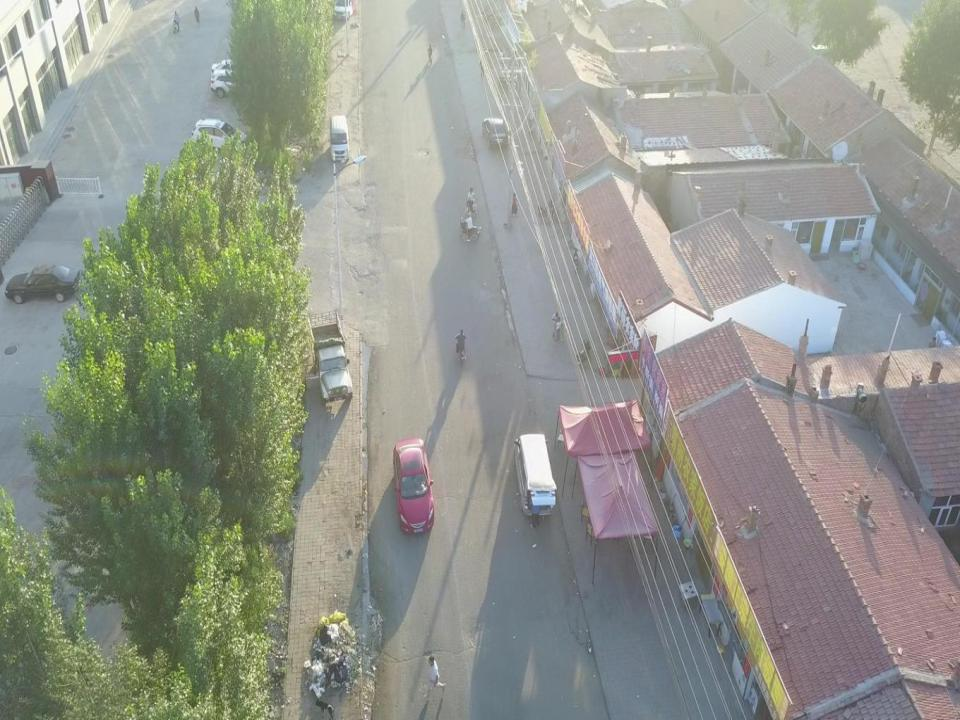car: (392, 438, 436, 536), (5, 263, 80, 303), (190, 116, 248, 152), (210, 69, 255, 99), (210, 59, 252, 86), (482, 116, 508, 148), (332, 0, 356, 20)
truck: (304, 310, 353, 408)
van: (513, 432, 556, 516), (329, 114, 350, 161)
